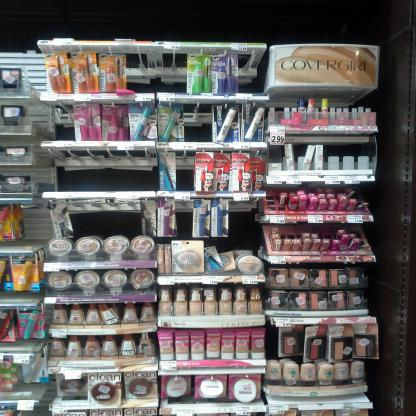Void: (64, 166, 152, 197), (76, 213, 140, 235), (17, 207, 49, 244), (130, 75, 187, 94), (232, 212, 261, 249), (177, 210, 196, 238), (52, 124, 76, 140), (186, 124, 209, 140), (178, 168, 193, 192), (241, 80, 258, 91)
